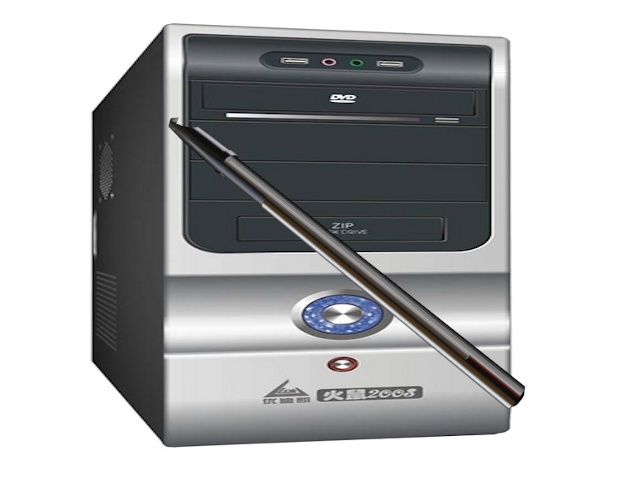pen: (169, 113, 529, 416)
